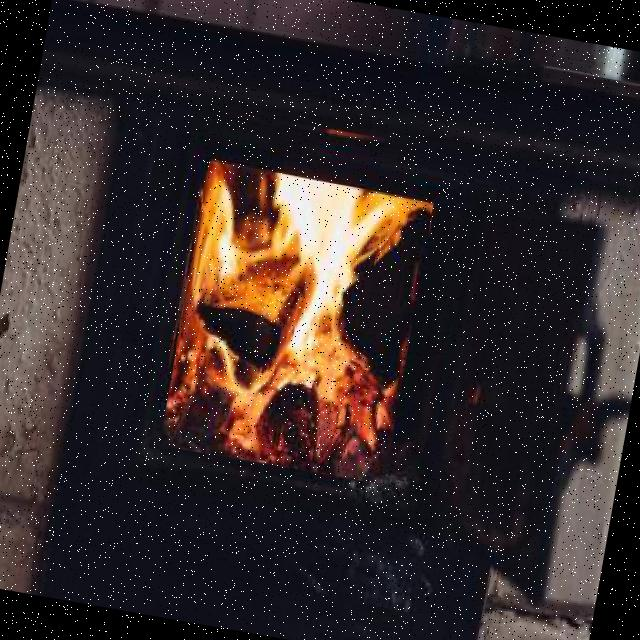fire: (158, 160, 434, 484)
